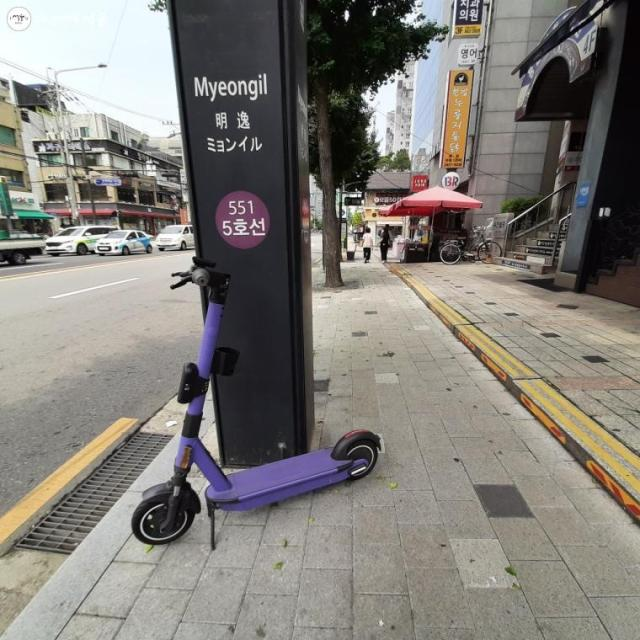kickboard_no: (168, 245, 250, 532)
